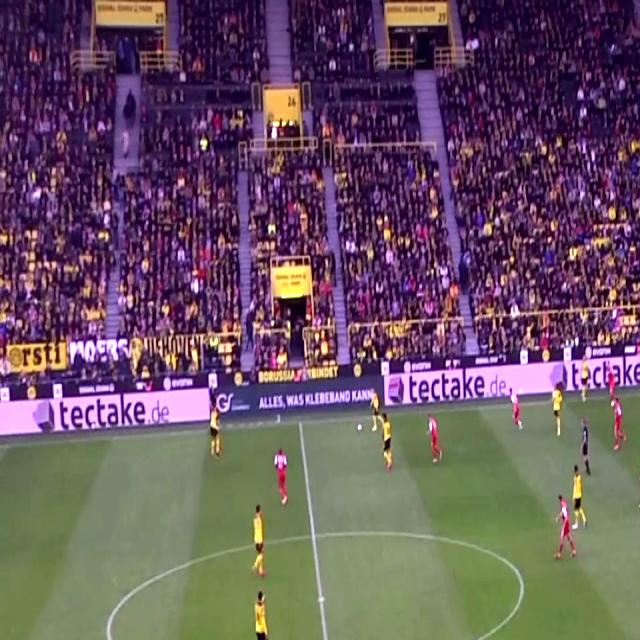ball: (356, 420, 363, 440)
referee: (580, 415, 595, 478)
soccer-player: (552, 490, 579, 570), (208, 378, 226, 463), (570, 459, 590, 532), (274, 442, 294, 514), (612, 391, 631, 458), (251, 586, 273, 640), (252, 500, 268, 574), (425, 409, 443, 471), (552, 382, 568, 445), (378, 412, 394, 472), (508, 376, 524, 434), (368, 387, 384, 434), (578, 354, 590, 410), (601, 354, 616, 394), (635, 443, 640, 519)
